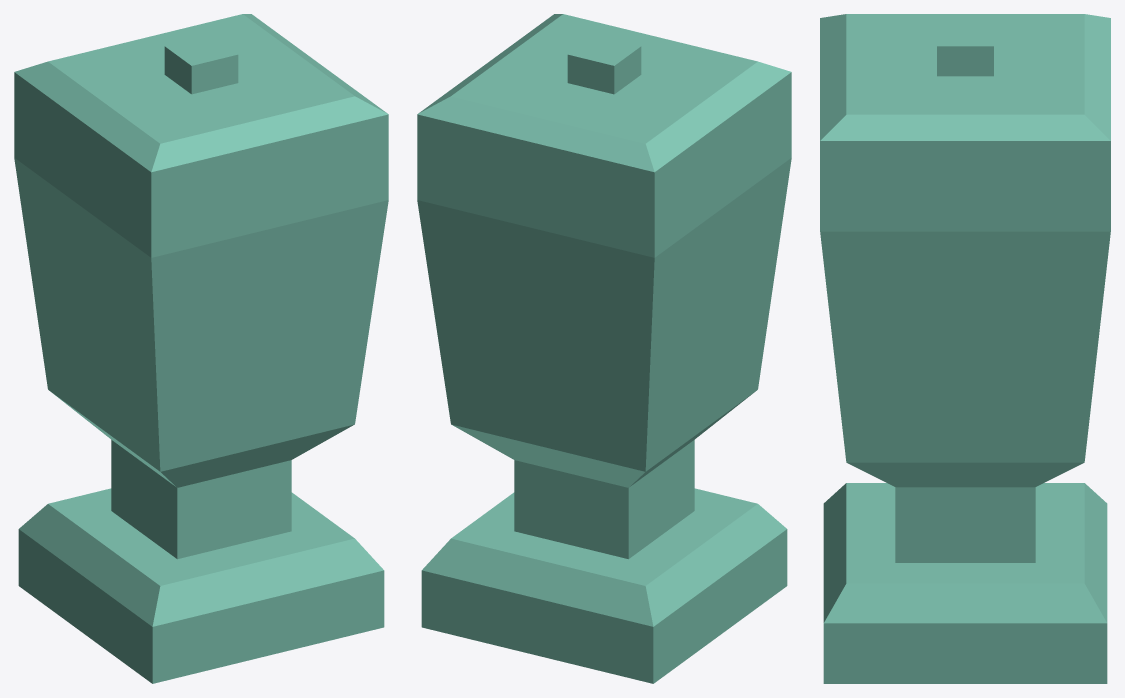
File: urn.fbx
The picture shows the model from 3 angles, left to right: view 1: azimuth 30°, elevation 25°; view 2: azimuth 150°, elevation 25°; view 3: azimuth 270°, elevation 25°; orthographic projection. The views are drawn at different scales.
Visible parts, largest first — view 1: urn, urnLid; view 2: urn, urnLid; view 3: urn, urnLid.
Part boxes in pixels (x1,y1,x2,y2): urn: (14,101,388,683); urnLid: (14,14,388,200); urn: (417,101,791,683); urnLid: (417,14,791,200); urn: (820,171,1110,683); urnLid: (820,14,1110,171).
Size of the model in its own units: 1.74 by 3.9 by 1.74.
